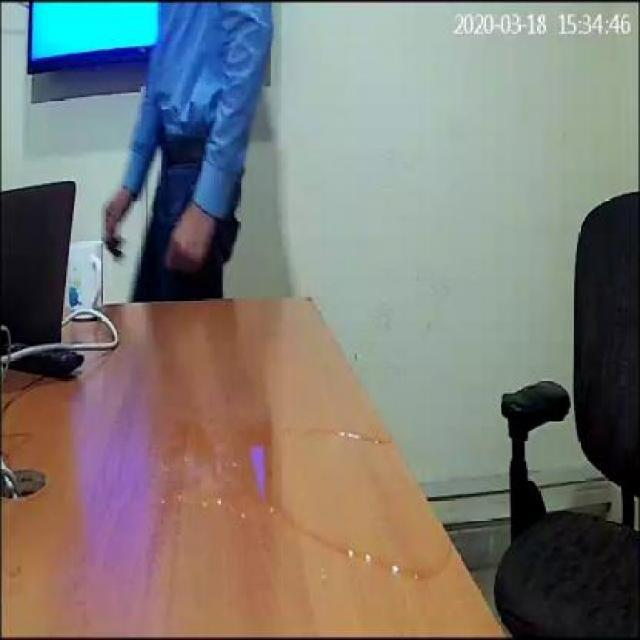spill: (162, 412, 453, 580)
